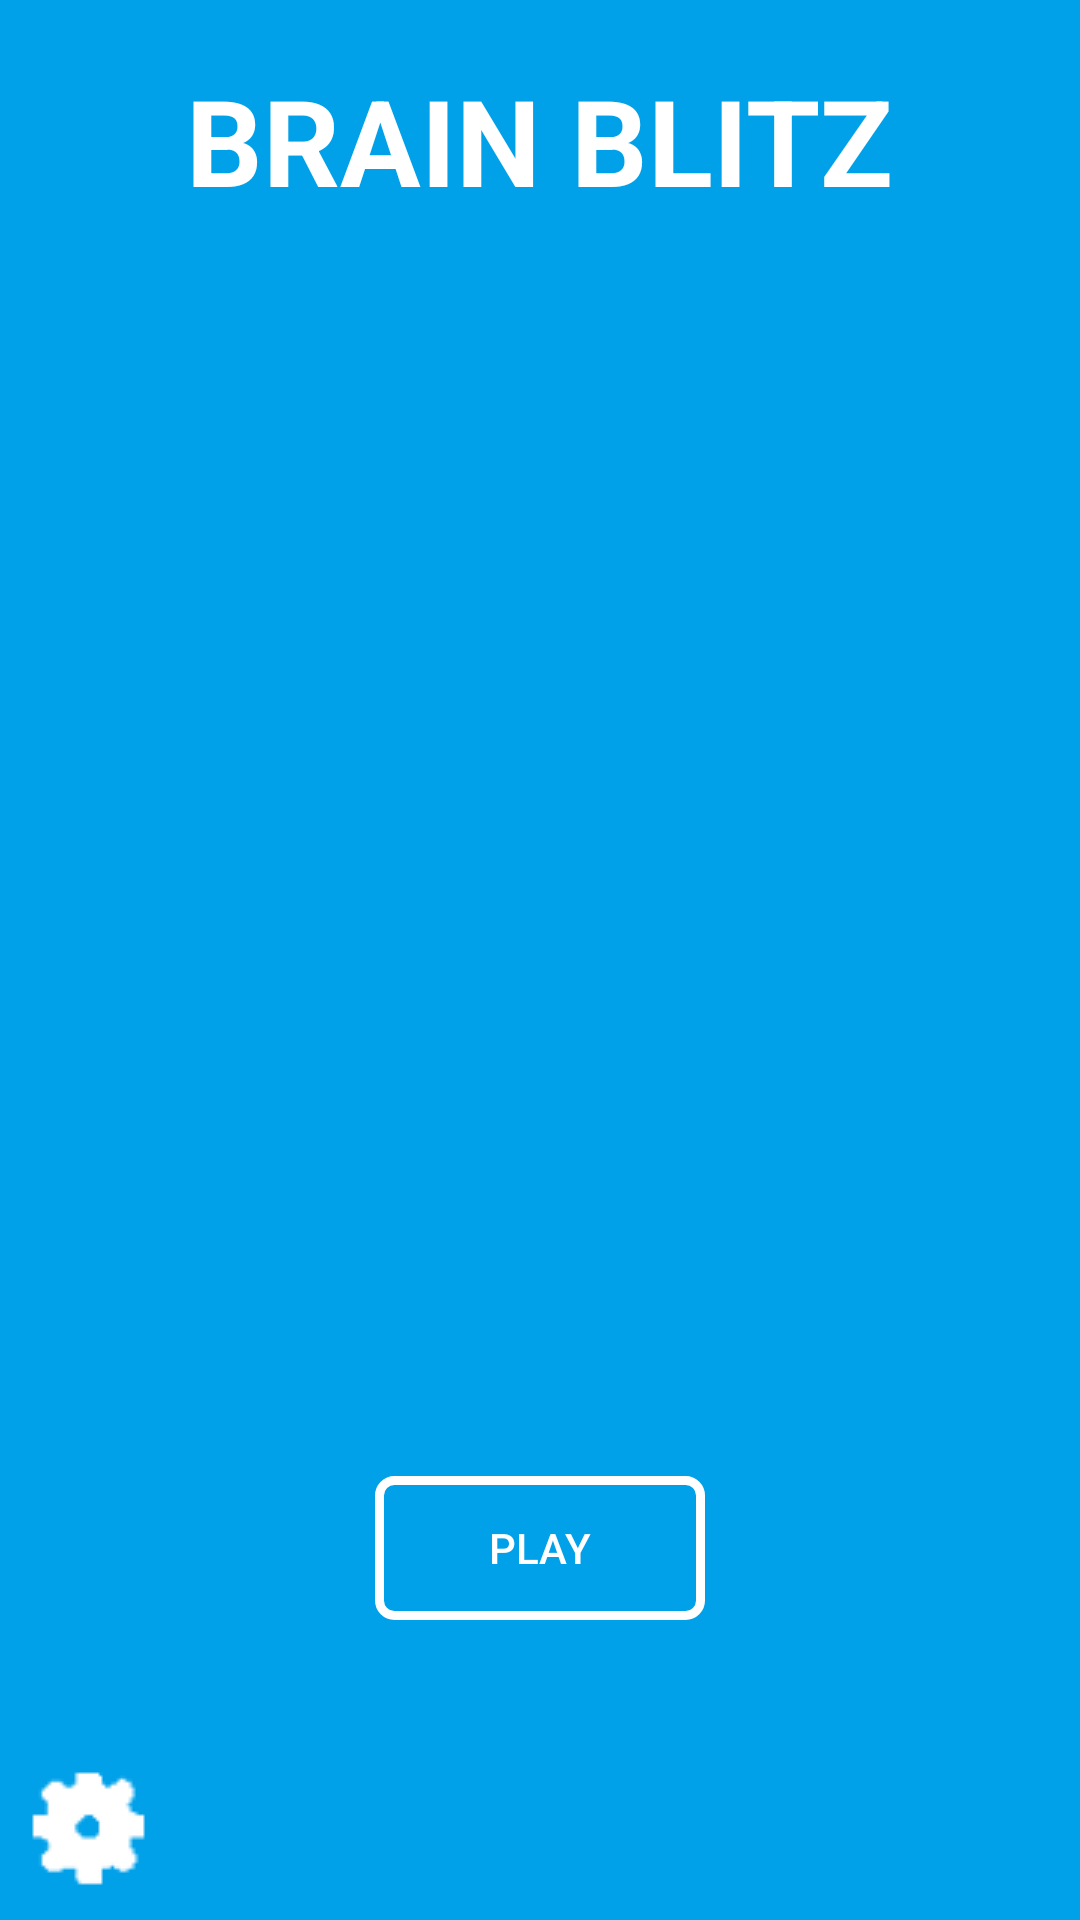

Icons on this 1080x1920 Android screen, each with its box as (x1, y1, x2, y2):
setting: (32, 1772, 145, 1885)
